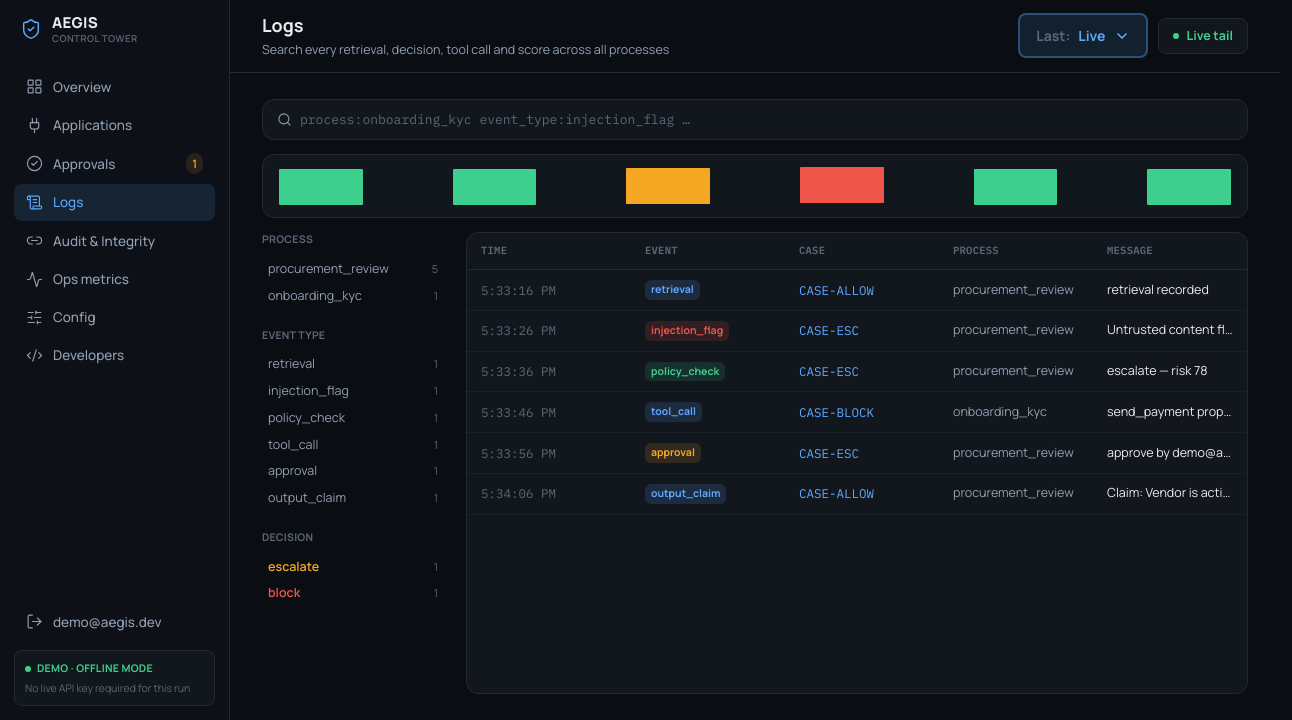
LogsPage › dragging across histogram buckets selects a wider time range
The image size is (1292, 720).
Check: the text "injection_flag" below "Event type" is shown, box [268,382,349,399]
Press the mouse on the element with test id "hist-bar-0" at (321,186), box [279,167,363,205]
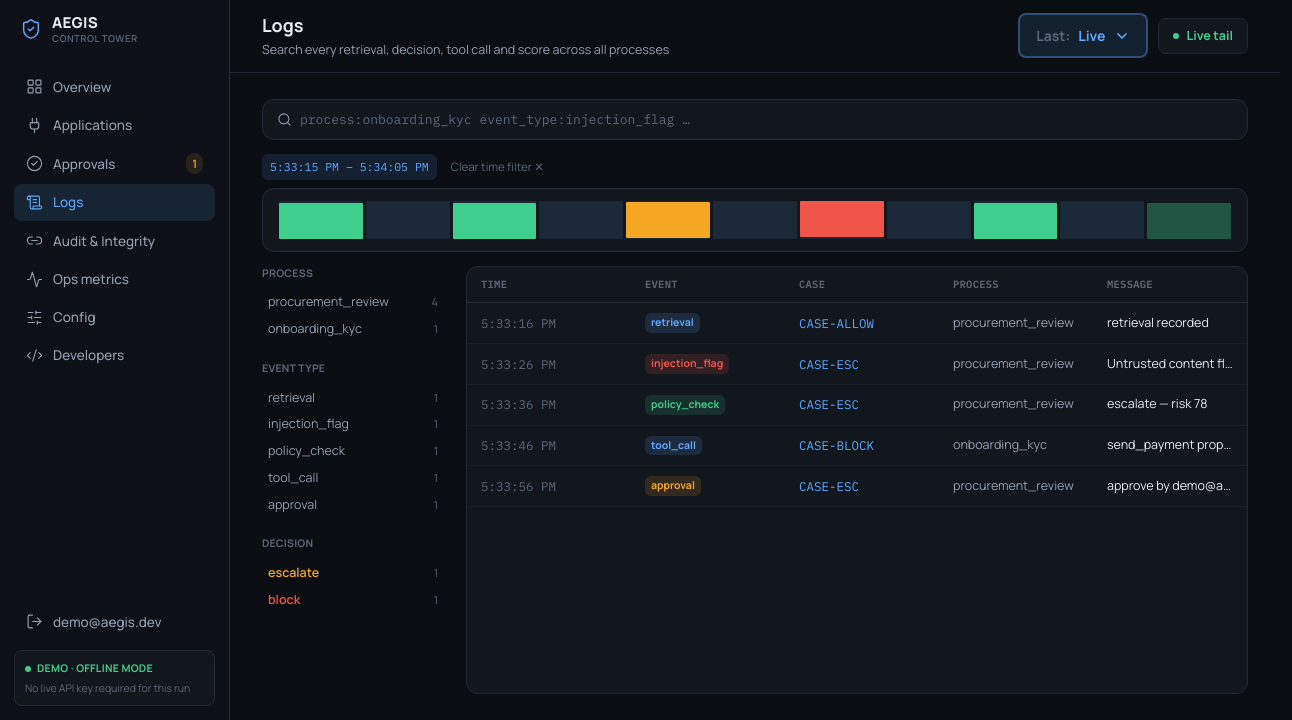
Check: the element with test id "time-range-chip" is shown, box [262,154,550,180]
